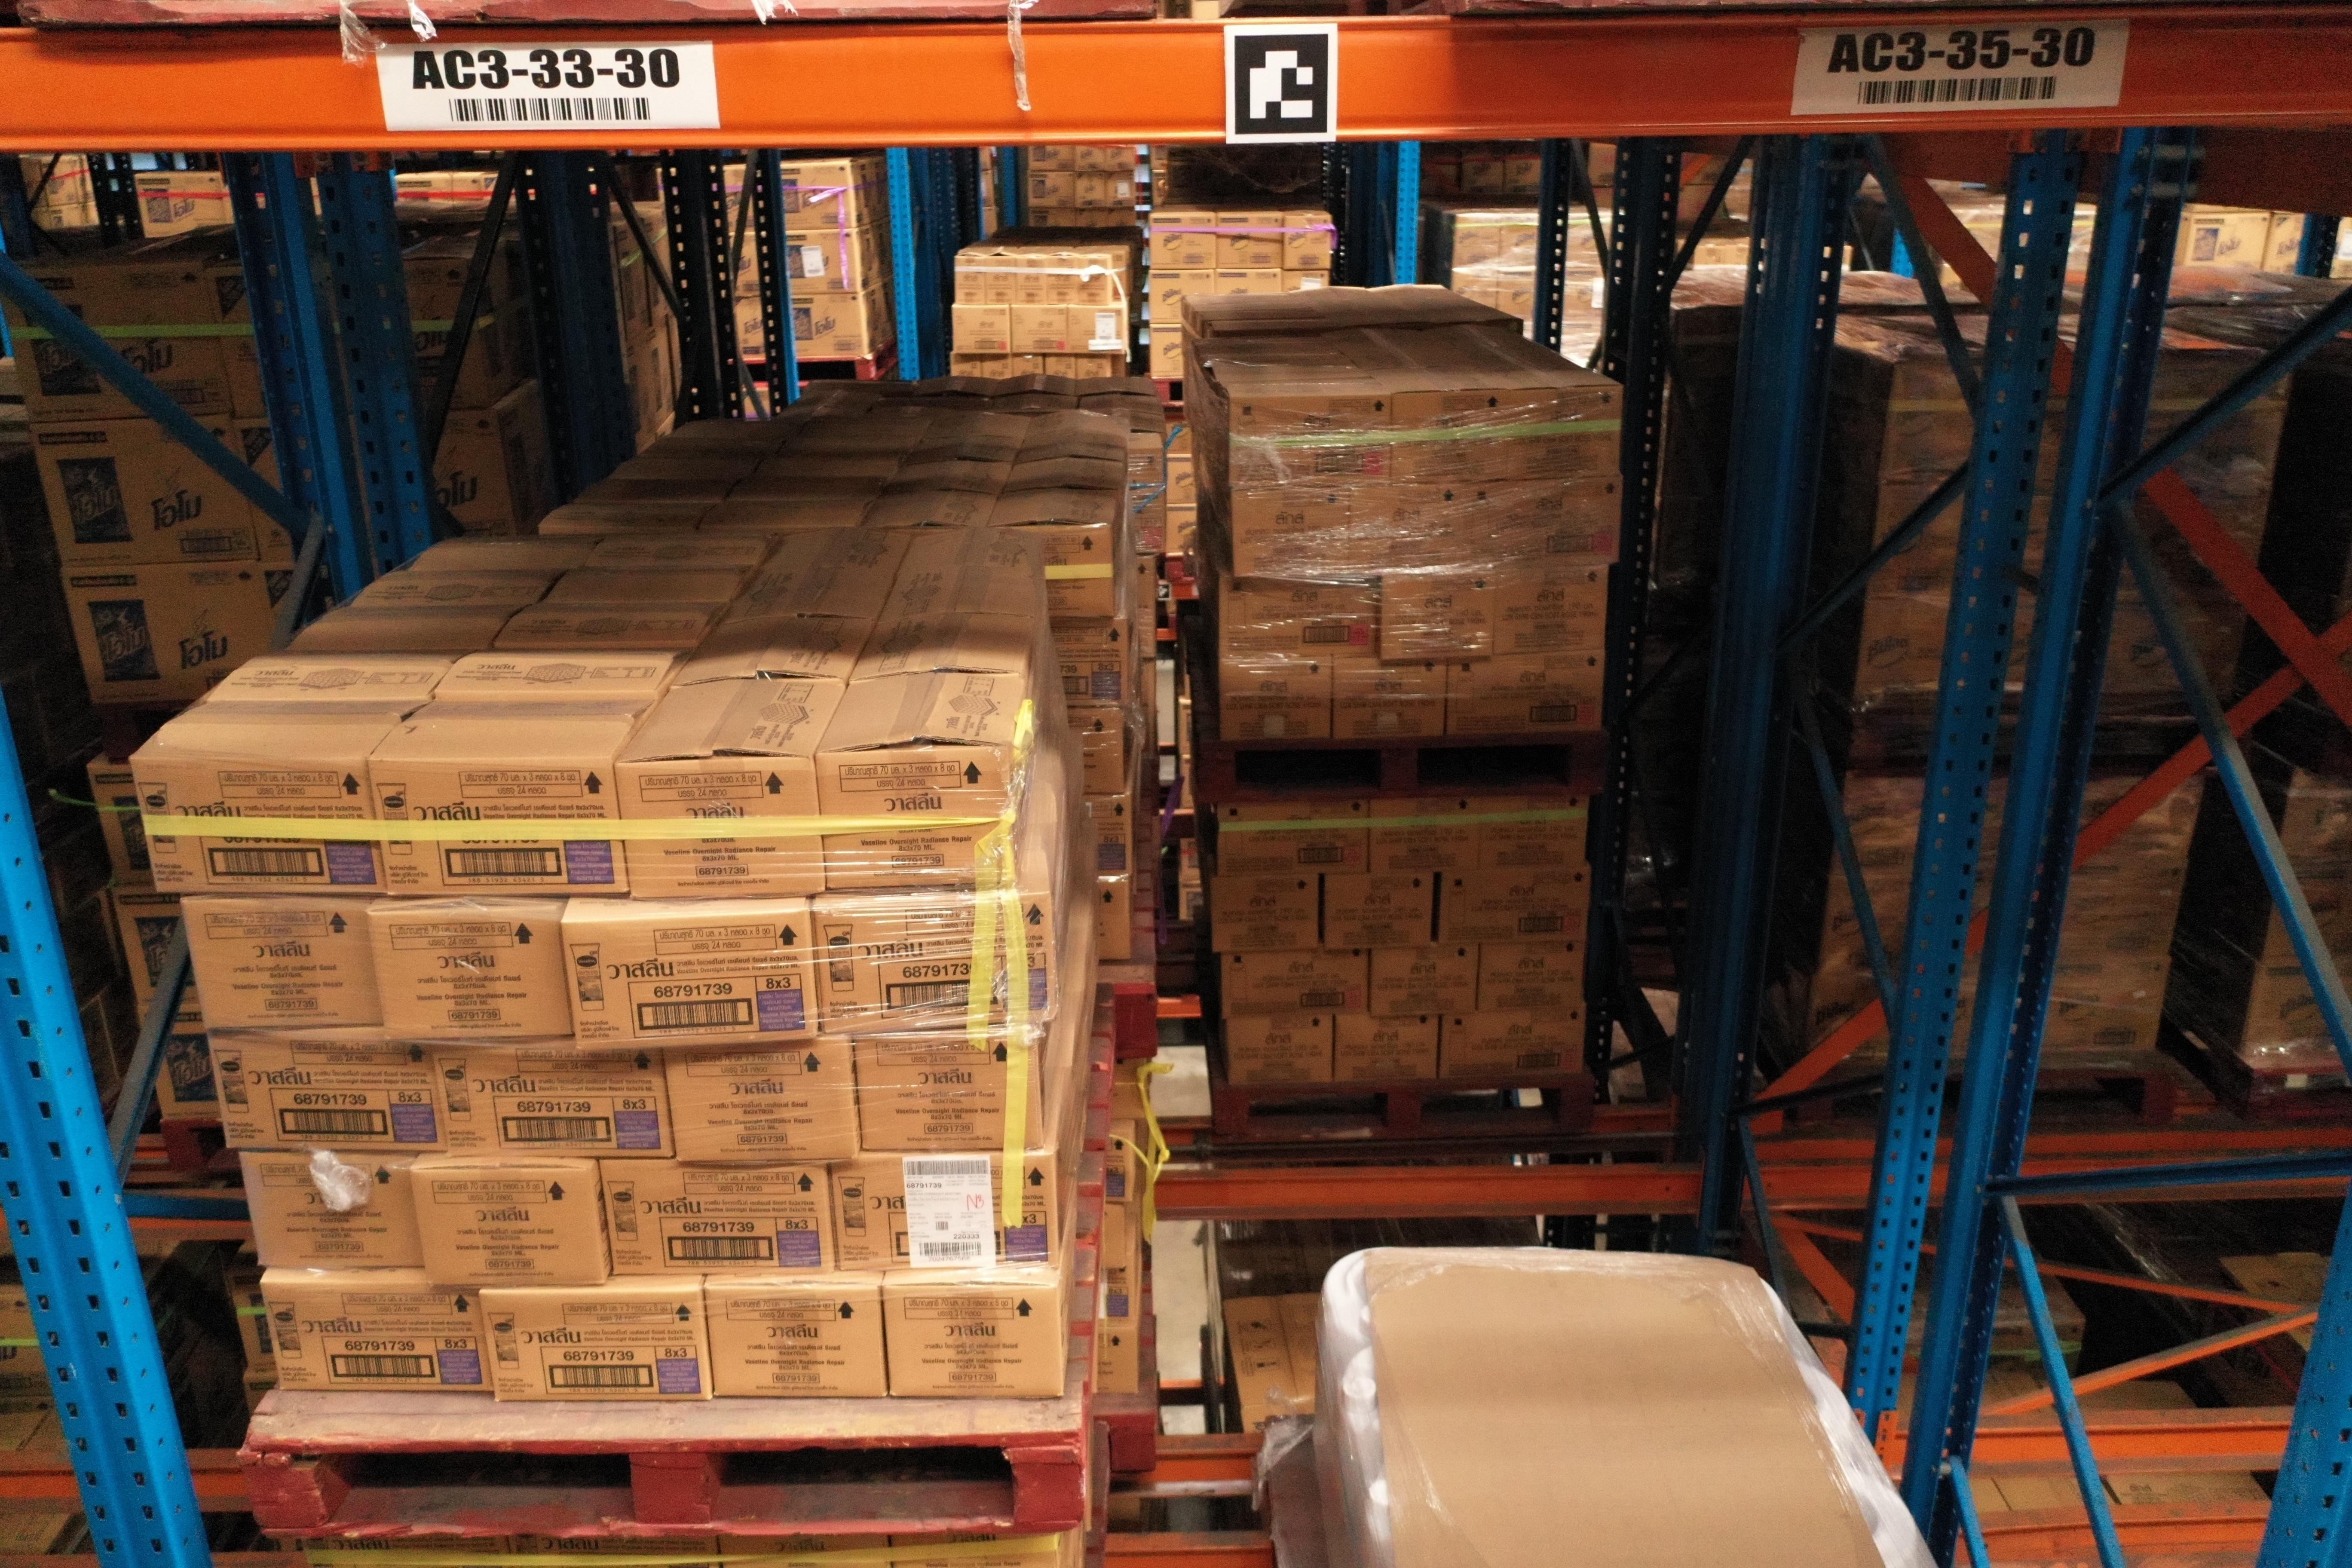-: (367, 756, 633, 899), (128, 754, 390, 894), (560, 915, 817, 1057), (814, 892, 1052, 1032), (205, 1024, 448, 1155), (614, 756, 829, 899), (254, 1274, 493, 1398), (814, 747, 1011, 898), (821, 1153, 1057, 1276), (362, 912, 576, 1045), (437, 1039, 675, 1158), (598, 1158, 836, 1276), (178, 896, 381, 1027), (486, 1291, 710, 1400), (660, 1038, 856, 1160), (411, 1165, 602, 1283), (854, 1034, 1043, 1151), (234, 1157, 427, 1269), (880, 1283, 1060, 1398), (702, 1286, 885, 1398)
box: (1228, 394, 1391, 490), (1465, 479, 1620, 576), (1447, 649, 1605, 738), (1218, 570, 1377, 658), (1216, 798, 1370, 878), (1440, 866, 1589, 947), (1507, 383, 1624, 483), (1393, 388, 1508, 485), (1347, 483, 1465, 577), (1438, 1008, 1584, 1081), (1232, 488, 1349, 579), (1381, 572, 1498, 663), (1494, 565, 1608, 656), (1221, 950, 1368, 1020), (1332, 654, 1447, 740), (1218, 658, 1332, 744), (1211, 875, 1319, 954), (1325, 871, 1433, 950), (1370, 798, 1482, 873), (1480, 794, 1589, 868), (1479, 941, 1585, 1015), (1370, 947, 1479, 1017), (1228, 1017, 1333, 1088), (1333, 1013, 1437, 1083)
